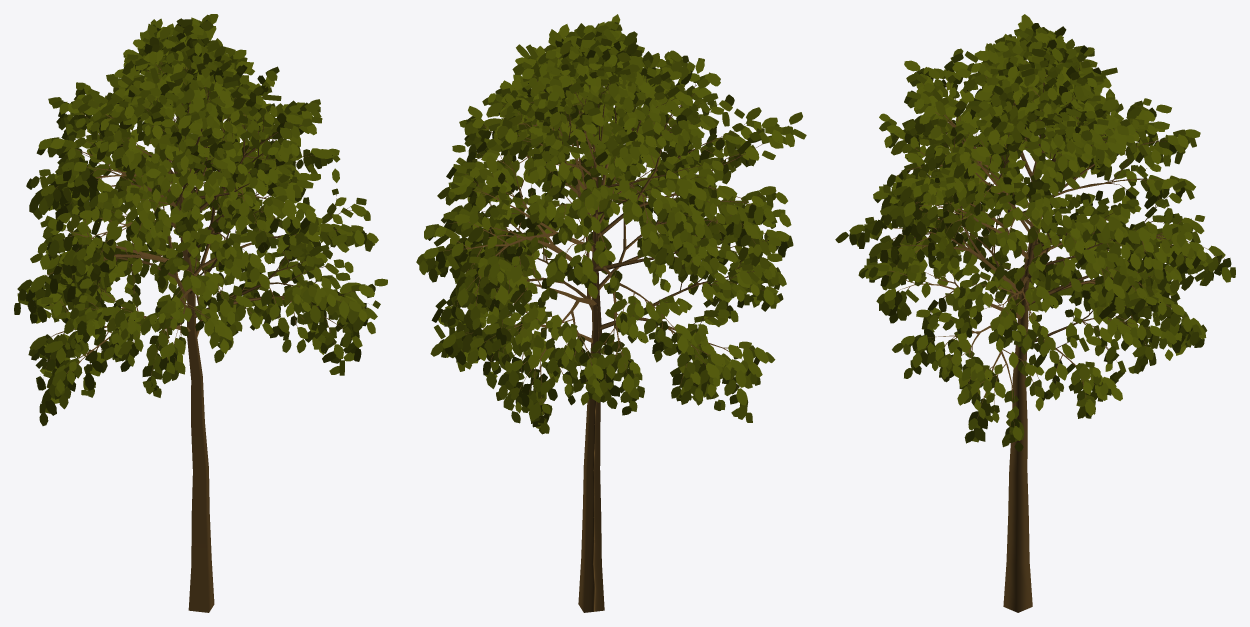
The model's file is treeSmooth.fbx.
3 views of the same model, side by side, from view 1: azimuth 30°, elevation 25°; view 2: azimuth 150°, elevation 25°; view 3: azimuth 270°, elevation 25° (orthographic). The views are drawn at different scales.
Parts seen in each view (by area): view 1: tree; view 2: tree; view 3: tree.
Part boxes in pixels (x1=…): tree: x1=14, y1=14, x2=387, y2=612; tree: x1=416, y1=14, x2=806, y2=612; tree: x1=835, y1=14, x2=1235, y2=612.
Size of the model in its own units: 293 by 508 by 321.
